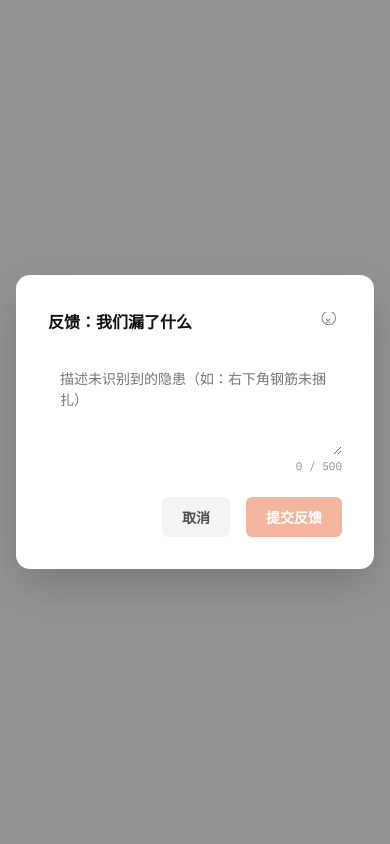
Scenario: FeedbackModal › 字数 counter 实时显示
Expected: the text "0 / 500" is shown, [296,459,342,473]
In the text box named "反馈描述": (195, 407) [48,359,342,455], type "abc"
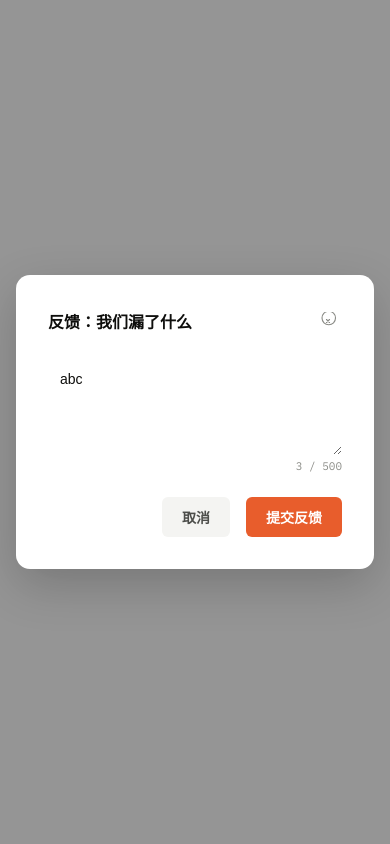
Now the text "3 / 500" is shown, box [296,459,342,473]
